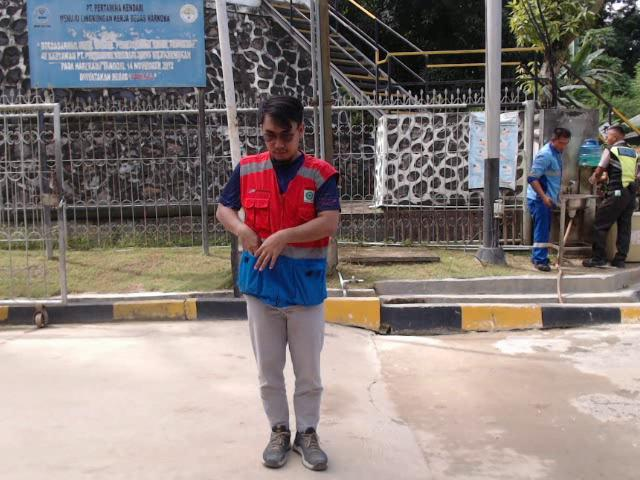safety-shoes: (293, 426, 330, 473), (261, 421, 292, 471), (379, 414, 379, 414)
